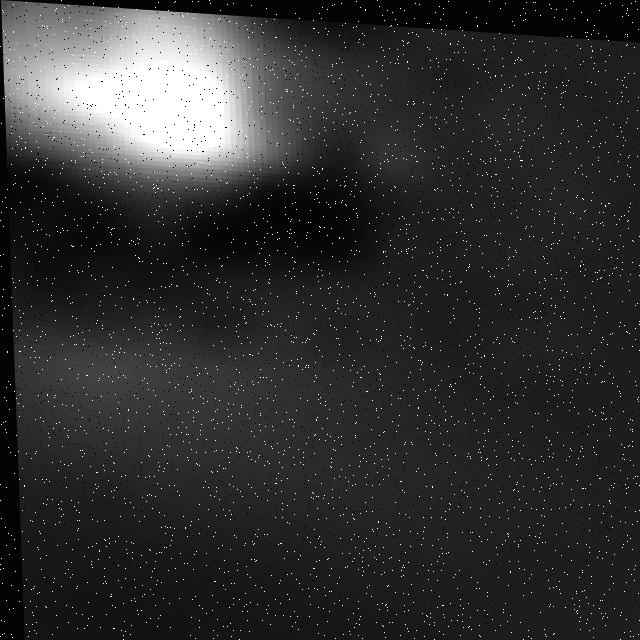person: (1, 2, 450, 211)
